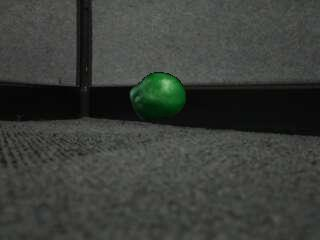Lime: (127, 71, 189, 123)
